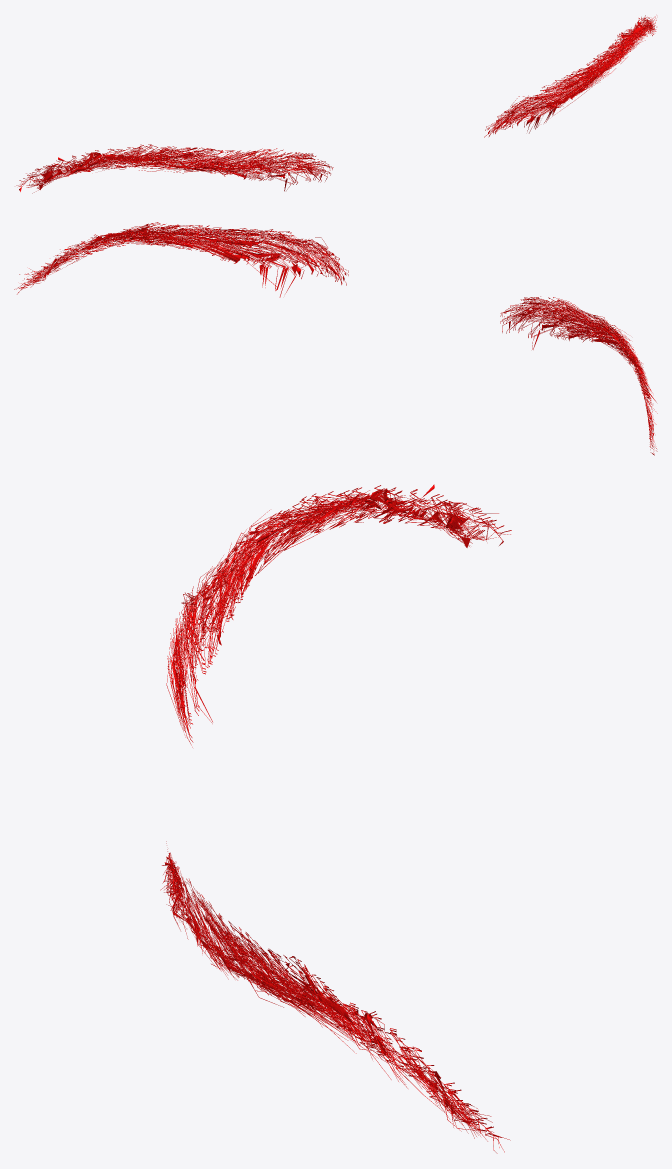
Rendered from mindfront_eyebrows_04_F.glb.
The picture shows the model from 3 angles, top to bottom: view 1: azimuth 30°, elevation 25°; view 2: azimuth 150°, elevation 25°; view 3: azimuth 270°, elevation 25°; orthographic projection. The views are drawn at different scales.
Size of the model in its own units: 0.1231 by 0.0117 by 0.0294.
1 material, 1 textured.
